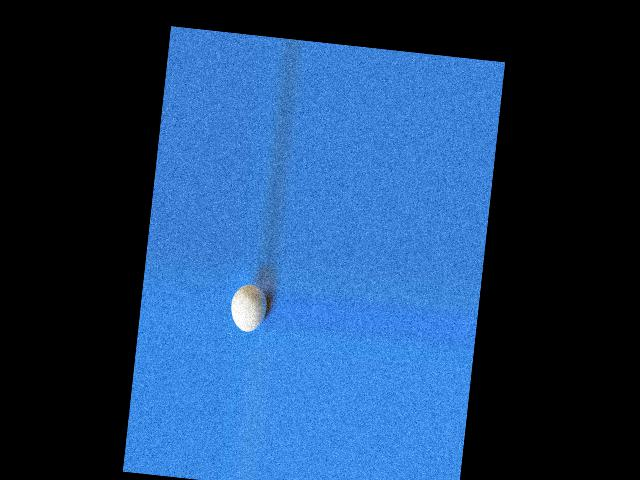egg: (228, 282, 269, 333)
